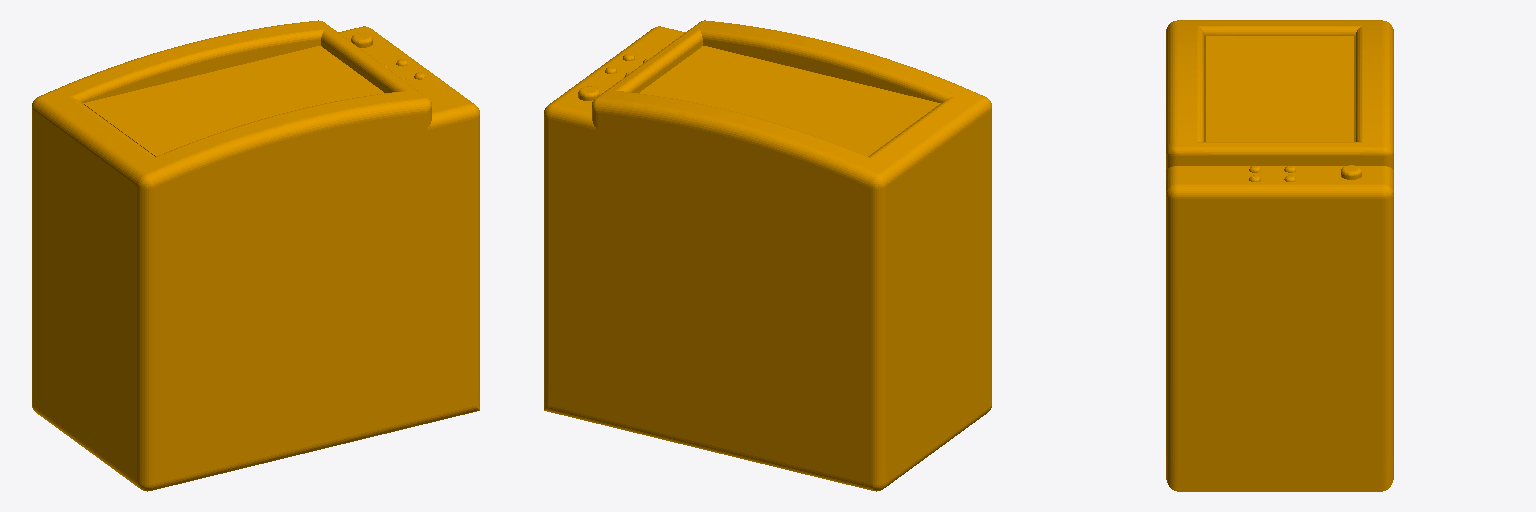
URDF robot description (oven):
<robot name="oven">
  <link name="oven">
    <collision>
      <geometry>
        <mesh filename="oven.stl" />
      </geometry>
    </collision>
    <visual>
      <geometry>
        <mesh filename="oven.stl" />
      </geometry>
    </visual>
  </link>
</robot>

--- Render facts (derived) ---
The picture shows the robot from 3 angles, left to right: view 1: azimuth 30°, elevation 25°; view 2: azimuth 150°, elevation 25°; view 3: azimuth 270°, elevation 25°; orthographic projection.
Robot: oven — 1 links, 0 joints (none); root link oven; default pose: all joints at 0.
Visible links, largest first — view 1: oven; view 2: oven; view 3: oven.
Boxes of the visible links, bbox=[...] form: oven: bbox=[32, 20, 479, 491]; oven: bbox=[544, 20, 991, 491]; oven: bbox=[1166, 20, 1393, 491].
Size in the robot's own frame: 0.5847 by 0.3439 by 0.5461 metres.
1 mesh visuals loaded from 1 distinct referenced files (1 binary STL).